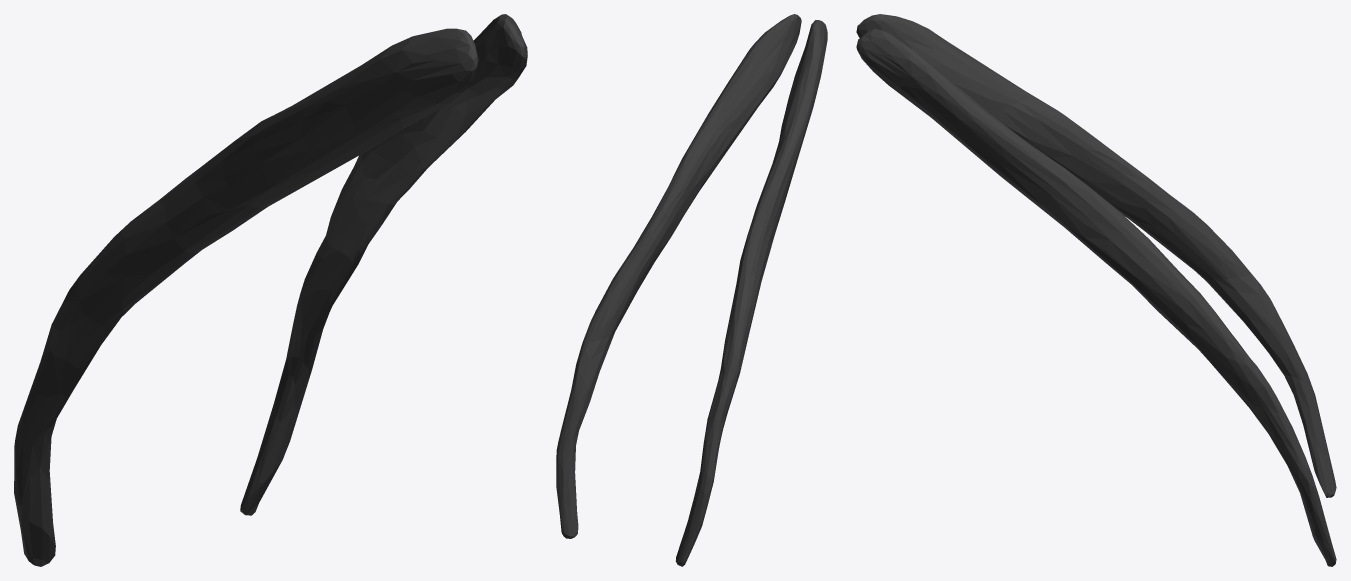
File: m_longus_capitis.glb
3 views of the same model, side by side, from view 1: azimuth 30°, elevation 25°; view 2: azimuth 150°, elevation 25°; view 3: azimuth 270°, elevation 25° (orthographic). The views are drawn at different scales.
Parts seen in each view (by area): view 1: m_longus_capitis; view 2: m_longus_capitis; view 3: m_longus_capitis.
Boxes of the visible parts, x1,y1,x2,y2 form: m_longus_capitis: (14, 14, 527, 566); m_longus_capitis: (556, 14, 827, 566); m_longus_capitis: (856, 14, 1336, 566).
Bounding box in the file's own units: 0.00207 × 0.00516 × 0.00441.
Materials: 1 (1 with a texture image).
